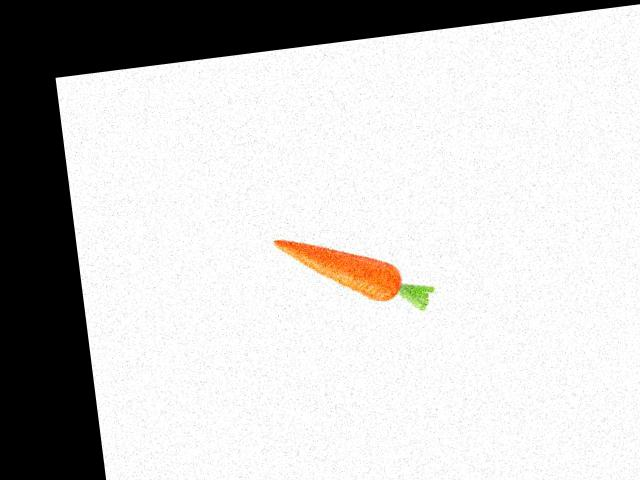carrot: (270, 221, 408, 318)
